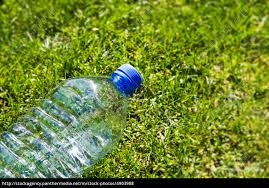plastic_bottle: (1, 62, 142, 178)
